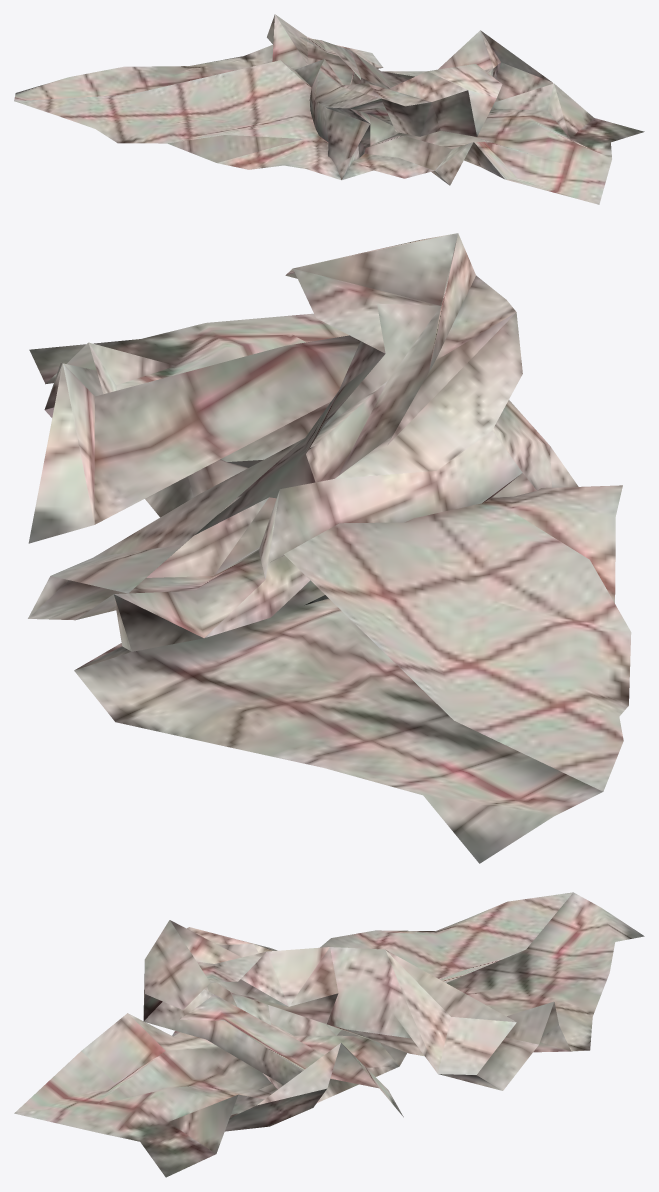
Rendered from rag_tablecloth_0_lod1_web.glb.
The picture shows the model from 3 angles, top to bottom: view 1: azimuth 30°, elevation 25°; view 2: azimuth 150°, elevation 25°; view 3: azimuth 270°, elevation 25°; orthographic projection. The views are drawn at different scales.
Visible parts, largest first — view 1: rag_tablecloth_0_Cloth; view 2: rag_tablecloth_0_Cloth; view 3: rag_tablecloth_0_Cloth.
Boxes of the visible parts, x1,y1,x2,y2 form: rag_tablecloth_0_Cloth: (14,14,644,204); rag_tablecloth_0_Cloth: (28,233,631,863); rag_tablecloth_0_Cloth: (14,892,644,1177).
Size of the model in its own units: 0.9304 by 0.2268 by 0.9346.
Materials: 1 (1 with a texture image).
